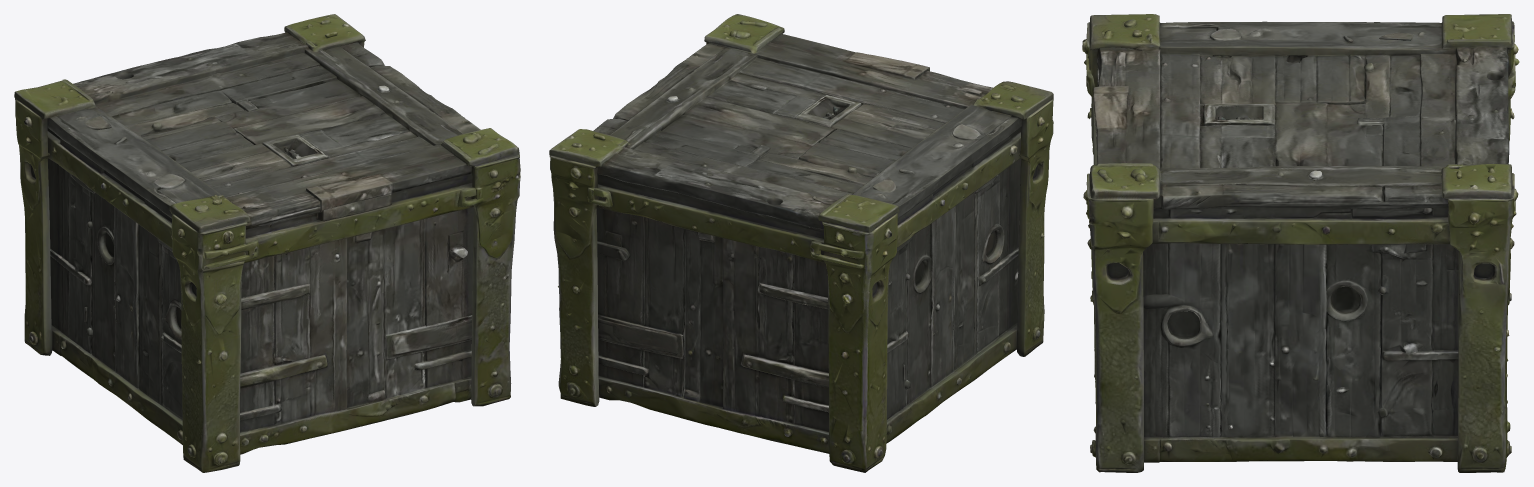
File: crate.glb
3 views of the same model, side by side, from view 1: azimuth 30°, elevation 25°; view 2: azimuth 150°, elevation 25°; view 3: azimuth 270°, elevation 25° (orthographic). The views are drawn at different scales.
Bounding box in the file's own units: 0.9764 × 0.7173 × 0.9782.
1 material, 1 textured.
